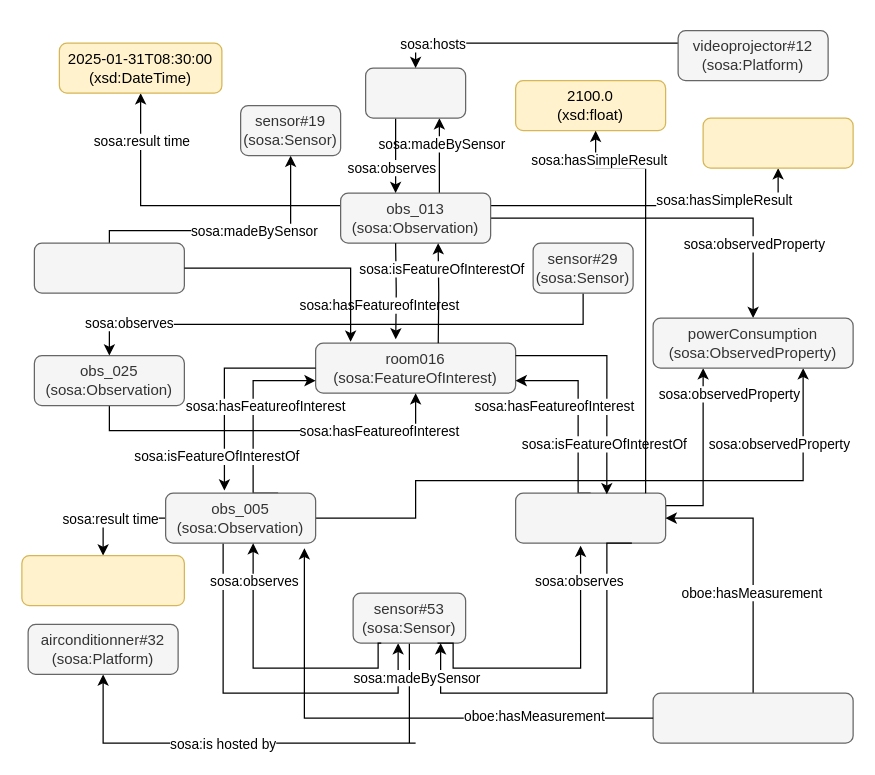
The diagram is 875 pixels wide and 775 high, and some of its shapes have lost their labels. The box of each missing label's shape, as (x1, y1, x2, y2) in pixels:
2025-01-31T09:00:00 (xsd:DateTime): (21, 554, 184, 606)
310.0 (xsd:float): (702, 117, 853, 168)
obs_010 (sosa:Observation): (514, 492, 666, 543)
obs_017 (sosa:Observation): (33, 242, 184, 293)
obsCollection1 (oboe:Observation): (652, 692, 853, 743)
sensor#08 (sosa:Sensor): (364, 67, 466, 118)
